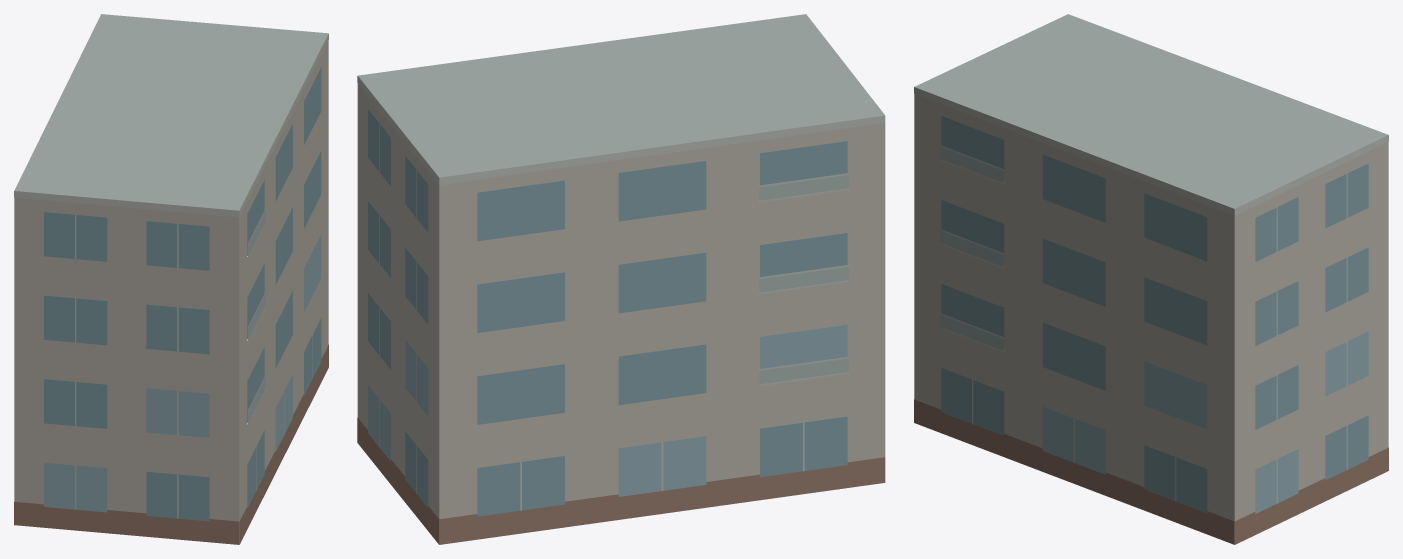
The model's file is survey-upis-32568505.glb.
The picture shows the model from 3 angles, left to right: view 1: azimuth 30°, elevation 25°; view 2: azimuth 150°, elevation 25°; view 3: azimuth 270°, elevation 25°; orthographic projection. The views are drawn at different scales.
Parts seen in each view (by area): view 1: survey-upis-32568505.tmp; view 2: survey-upis-32568505.tmp; view 3: survey-upis-32568505.tmp.
Boxes of the visible parts, <box> form: survey-upis-32568505.tmp: <box>14,14,328,544</box>; survey-upis-32568505.tmp: <box>357,14,885,544</box>; survey-upis-32568505.tmp: <box>914,14,1388,544</box>.
Size of the model in its own units: 15.19 by 12.2 by 15.63.
